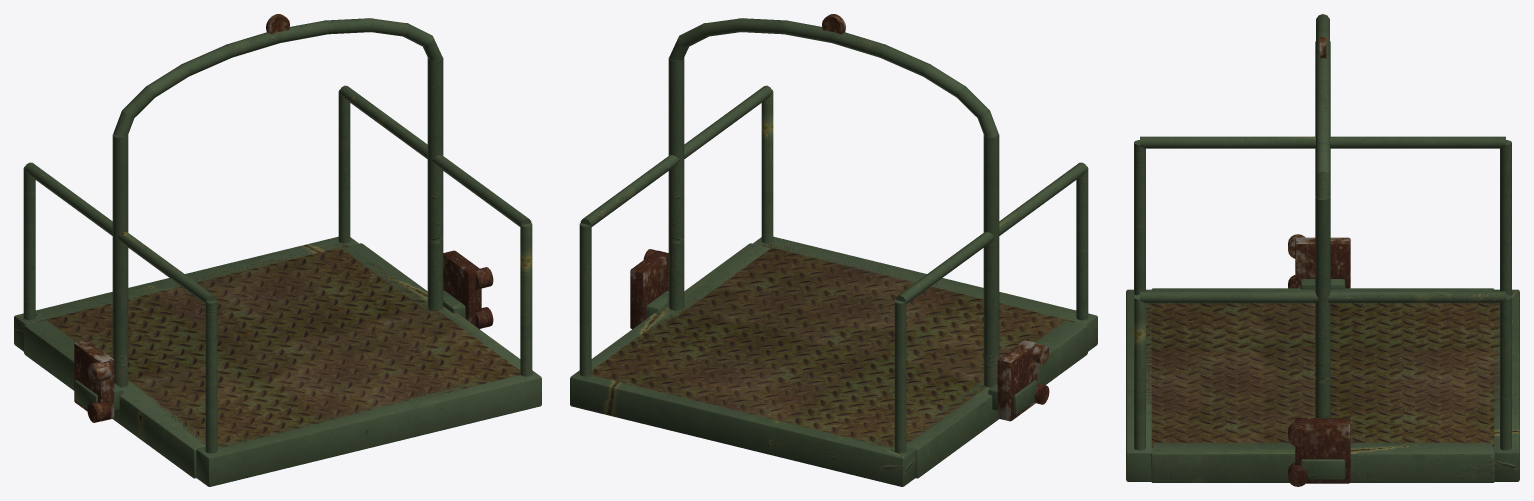
File: lift_deck.glb
3 renders of one model, left to right at view 1: azimuth 30°, elevation 25°; view 2: azimuth 150°, elevation 25°; view 3: azimuth 270°, elevation 25°, orthographic.
Parts seen in each view (by area): view 1: lift_frame, lift_tread, lift_iron; view 2: lift_frame, lift_tread, lift_iron; view 3: lift_tread, lift_frame, lift_iron.
Boxes of the visible parts, x1,y1,x2,y2 form: lift_frame: (14, 18, 541, 486); lift_tread: (36, 243, 520, 448); lift_iron: (74, 14, 493, 422); lift_frame: (570, 18, 1097, 486); lift_tread: (591, 243, 1075, 448); lift_iron: (630, 14, 1049, 421); lift_tread: (1146, 303, 1499, 447); lift_frame: (1126, 14, 1519, 482); lift_iron: (1288, 37, 1350, 486).
Size of the model in its own units: 0.83 by 0.722 by 0.71.
3 materials, 3 textured.
